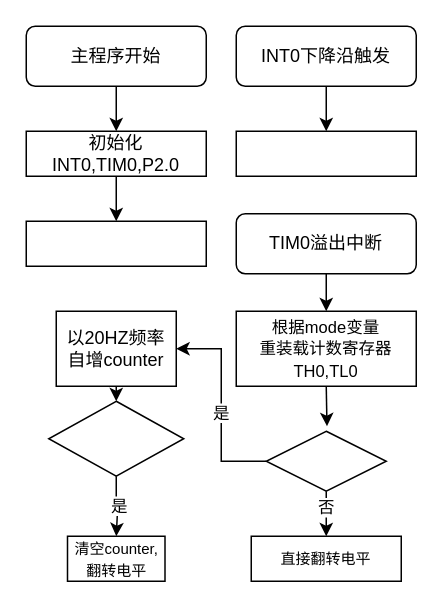
This 443x608 diagram has some shape labels left out. The centre of each missing label's shape, as x and y in pixels:
1HZ模式？: point (325, 460)
counter至10？: point (115, 438)
模式变量mode循环切换: point (325, 153)
等待定时器 INT0中断: point (115, 243)
